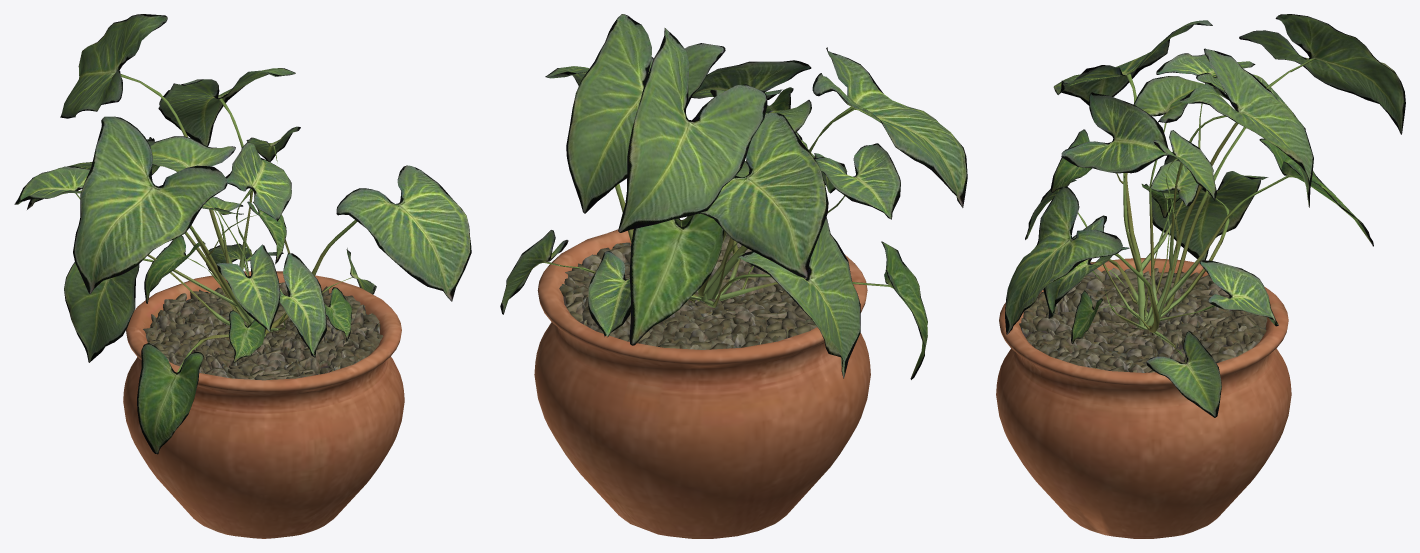
Rendered from potted_plant_2.glb.
The picture shows the model from 3 angles, left to right: view 1: azimuth 30°, elevation 25°; view 2: azimuth 150°, elevation 25°; view 3: azimuth 270°, elevation 25°; orthographic projection. The views are drawn at different scales.
Visible parts, largest first — view 1: potted_plant_02_leaves, potted_plant_02_pot; view 2: potted_plant_02_leaves, potted_plant_02_pot; view 3: potted_plant_02_pot, potted_plant_02_leaves.
Boxes of the visible parts, x1,y1,x2,y2 form: potted_plant_02_leaves: (14,14,471,454); potted_plant_02_pot: (123,271,404,538); potted_plant_02_leaves: (500,14,967,379); potted_plant_02_pot: (534,220,870,538); potted_plant_02_pot: (996,258,1291,538); potted_plant_02_leaves: (1005,14,1405,417).
Size of the model in its own units: 0.7012 by 0.8412 by 0.6574.
2 materials, 2 textured.
